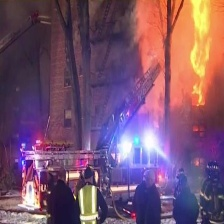fire: (185, 1, 212, 104)
